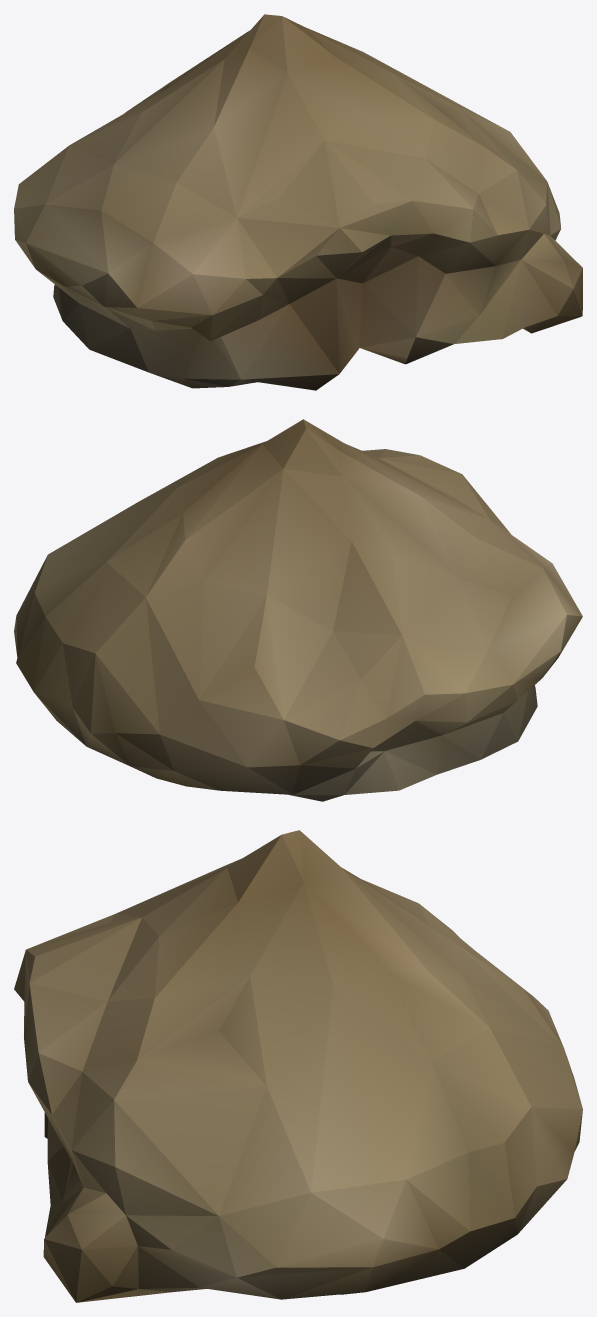
Rendered from fisher.glb.
3 views of the same model, one above another, from view 1: azimuth 30°, elevation 25°; view 2: azimuth 150°, elevation 25°; view 3: azimuth 270°, elevation 25° (orthographic). The views are drawn at different scales.
Parts seen in each view (by area): view 1: model.001; view 2: model.001; view 3: model.001.
Boxes of the visible parts, <box> form: model.001: <box>14,14,582,390</box>; model.001: <box>14,419,582,801</box>; model.001: <box>14,830,582,1302</box>.
Size of the model in its own units: 1.01 by 0.5768 by 0.8477.
